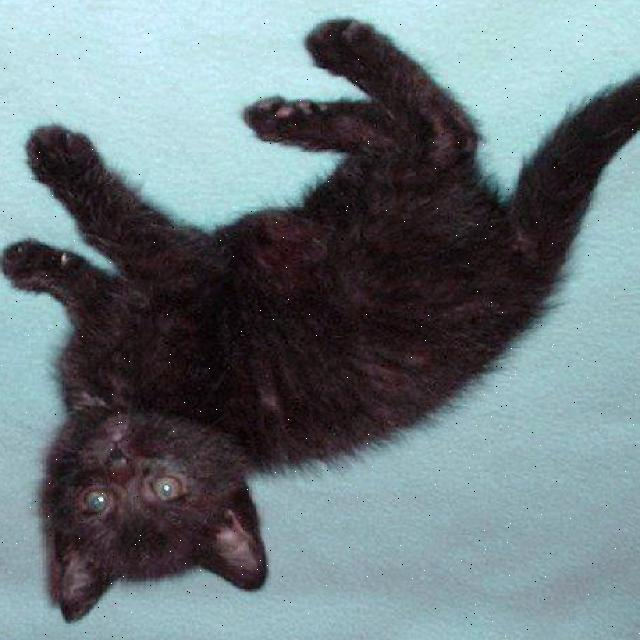Cat: (29, 396, 284, 621)
